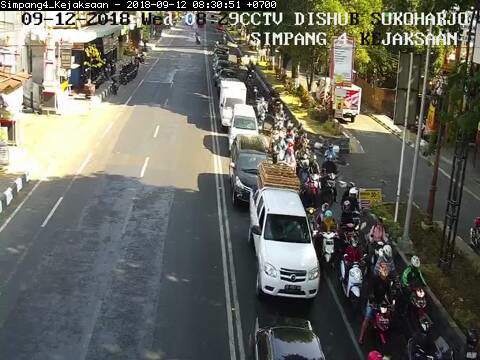motor: (399, 253, 432, 333), (366, 262, 396, 347), (313, 201, 340, 268), (340, 236, 364, 308), (340, 182, 367, 239), (320, 150, 343, 206)
